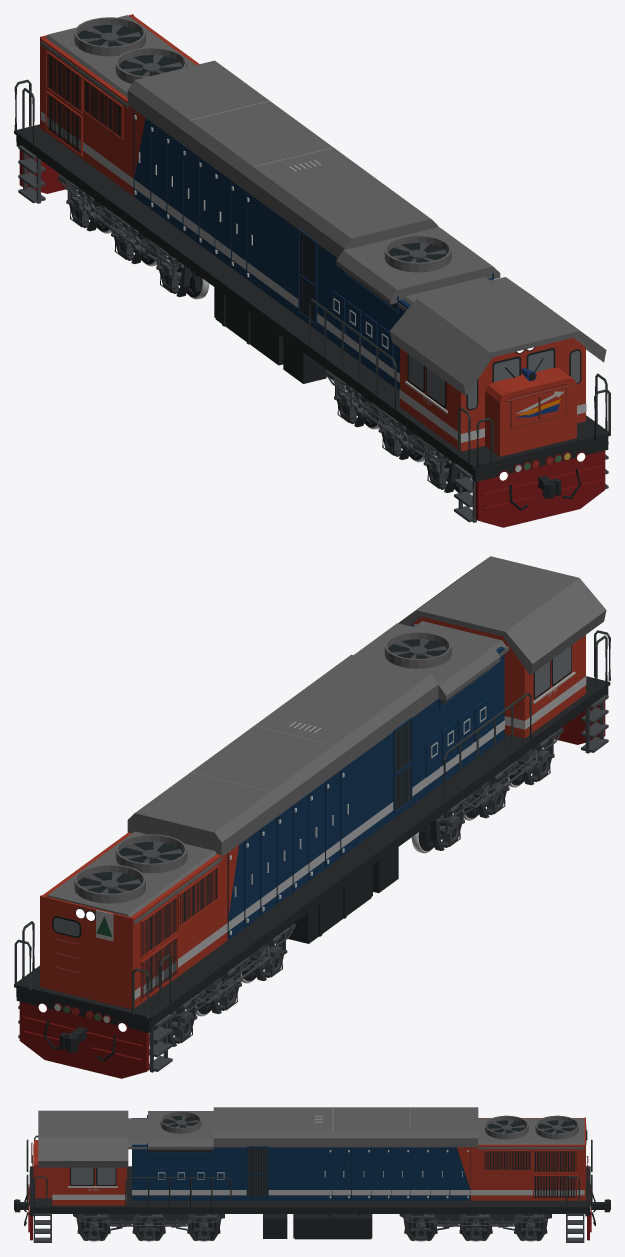
The model's file is cc205-rebuild-high-packed.glb.
3 renders of one model, top to bottom at view 1: azimuth 30°, elevation 25°; view 2: azimuth 150°, elevation 25°; view 3: azimuth 270°, elevation 25°, orthographic. The views are drawn at different scales.
Visible parts, largest first — view 1: locomotive-body, rail-bogie--1, rail-bogie-1; view 2: locomotive-body, rail-bogie-1, rail-bogie--1; view 3: locomotive-body, rail-bogie-1, rail-bogie--1.
Part boxes in pixels (bbox=[...]): locomotive-body: bbox=[14, 14, 610, 527]; rail-bogie--1: bbox=[58, 173, 201, 297]; rail-bogie-1: bbox=[325, 369, 466, 492]; locomotive-body: bbox=[14, 556, 610, 1078]; rail-bogie-1: bbox=[419, 727, 563, 850]; rail-bogie--1: bbox=[154, 923, 295, 1046]; locomotive-body: bbox=[24, 1107, 595, 1242]; rail-bogie-1: bbox=[73, 1214, 224, 1241]; rail-bogie--1: bbox=[399, 1214, 551, 1241].
Size of the model in its own units: 2.86 by 3.56 by 16.93.
